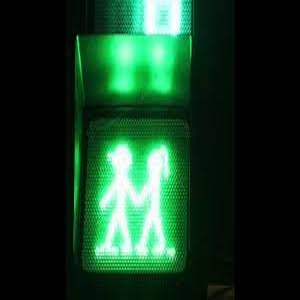green: (93, 135, 185, 256)
